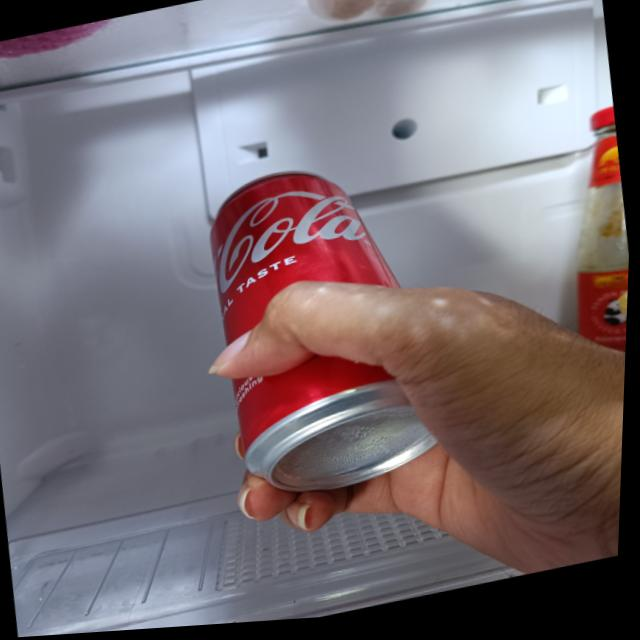coke: (203, 152, 453, 518)
